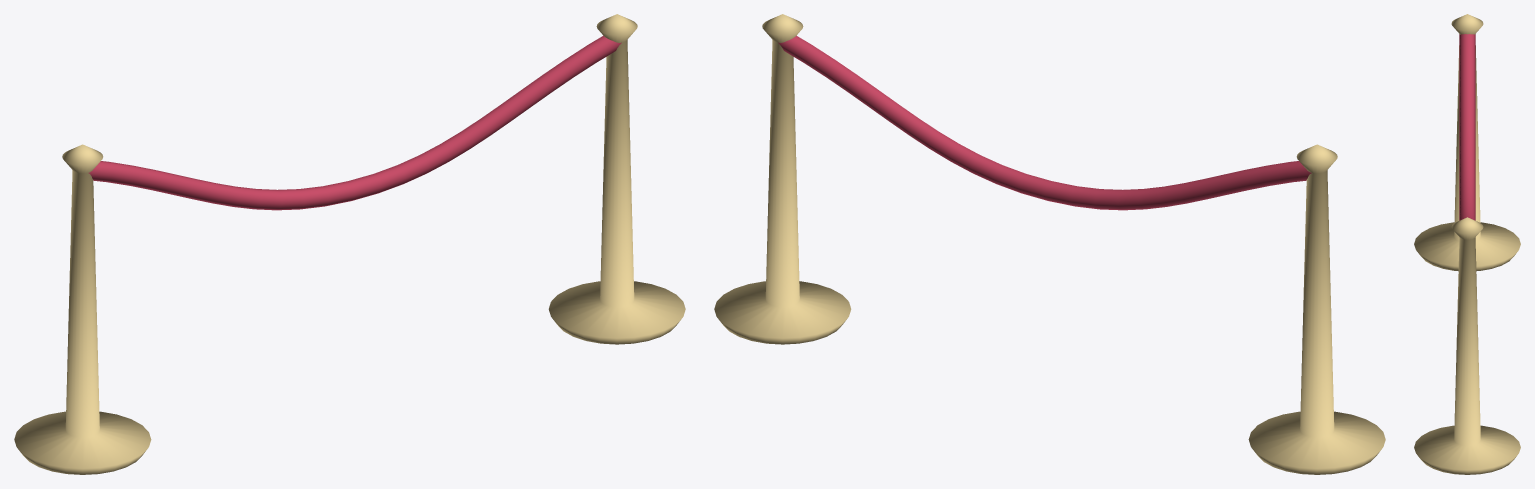
File: rope_stanchion.glb
The picture shows the model from 3 angles, left to right: view 1: azimuth 30°, elevation 25°; view 2: azimuth 150°, elevation 25°; view 3: azimuth 270°, elevation 25°; orthographic projection. The views are drawn at different scales.
Parts seen in each view (by area): view 1: rope_stanchion; view 2: rope_stanchion; view 3: rope_stanchion.
Part boxes in pixels (x1=…): rope_stanchion: x1=14, y1=14, x2=685, y2=474; rope_stanchion: x1=714, y1=14, x2=1385, y2=474; rope_stanchion: x1=1414, y1=14, x2=1520, y2=474.
Size of the model in its own units: 2.2 by 0.98 by 0.4.
